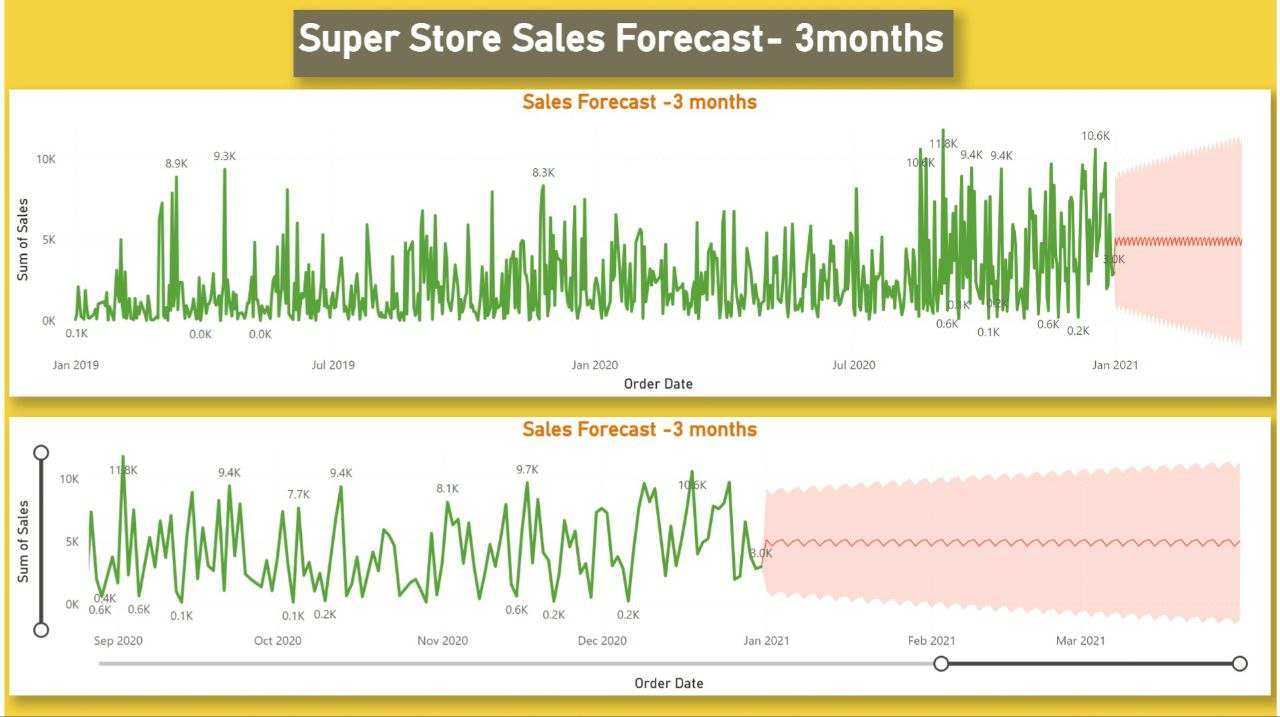

The page's visual inventory and layout, read from the dashboard file:
{"tool":"powerbi","page":{"name":"Sales Forecast","canvas":[1280,720],"ordinal":1},"visuals":[{"type":"textbox","box":[291.4,10.1,663.8,67.5],"z":0},{"type":"textbox","box":[291.4,10.1,663.8,67.5],"z":1000},{"type":"lineChart","title":"Sales Forecast -3 months","fields":{"Y":["Sum(SuperStore Sales.Sales)"],"Category":["SuperStore Sales.Order Date"]},"box":[4.5,90,1269,308.2],"z":11000},{"type":"lineChart","title":"Sales Forecast -3 months","fields":{"Y":["Sum(SuperStore Sales.Sales)"],"Category":["SuperStore Sales.Order Date"]},"box":[4.5,418.5,1269,280.1],"z":12000}]}

Visuals, with their boxes in screenshot pixels (x1, y1, x2, y2), scaled from the page's 1280x720 canvas onto the 1280x717 screenshot:
textbox: bbox=(291, 10, 955, 77)
textbox: bbox=(291, 10, 955, 77)
"Sales Forecast -3 months" lineChart: bbox=(4, 90, 1274, 397)
"Sales Forecast -3 months" lineChart: bbox=(4, 417, 1274, 696)
